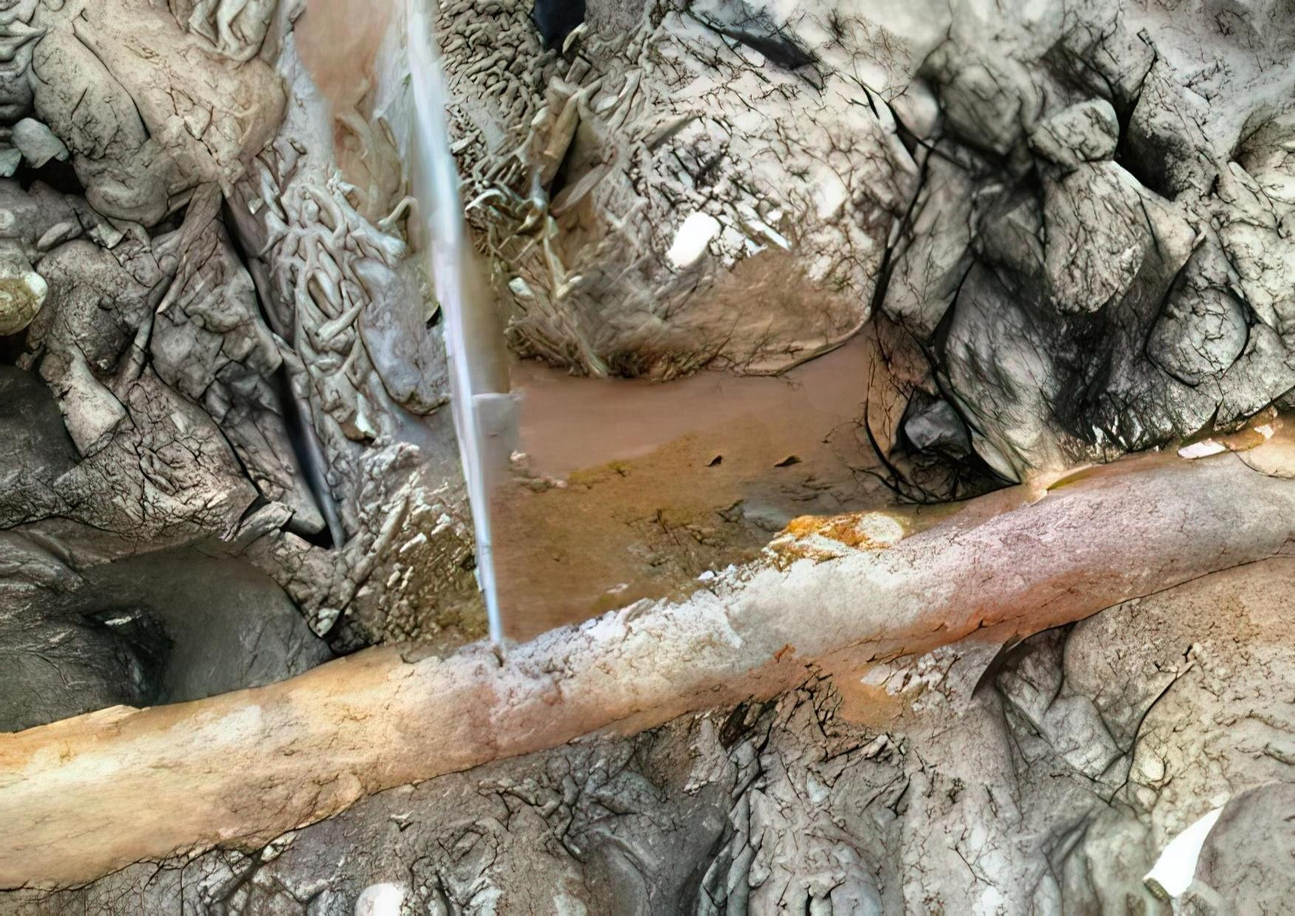pipe burst: (398, 0, 514, 669)
water accumulation: (451, 328, 914, 593)
